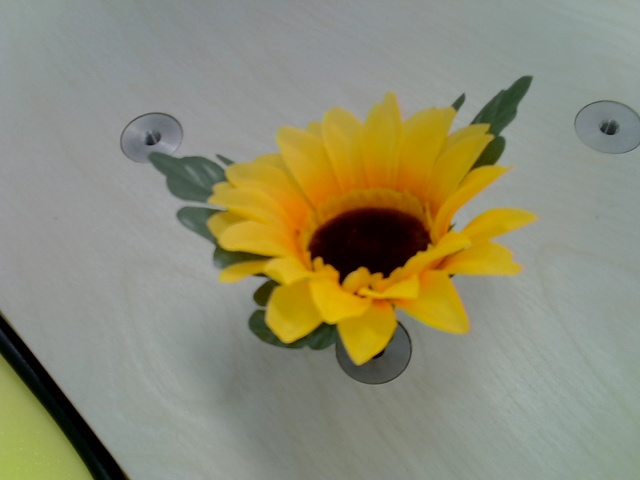해바라기: (209, 96, 527, 357)
